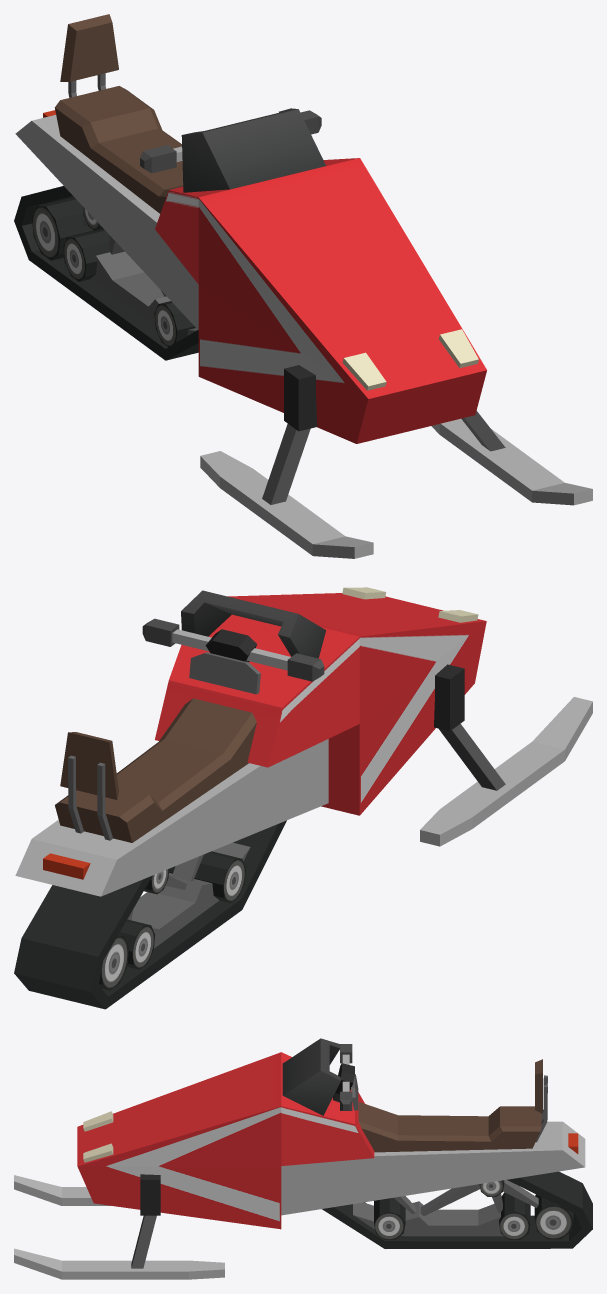
File: Snowmobile.fbx
The picture shows the model from 3 angles, top to bottom: view 1: azimuth 30°, elevation 25°; view 2: azimuth 150°, elevation 25°; view 3: azimuth 270°, elevation 25°; orthographic projection. The views are drawn at different scales.
Parts seen in each view (by area): view 1: Snowmobile, SkyR, SkyL; view 2: Snowmobile, SkyR; view 3: Snowmobile, SkyL, SkyR.
Boxes of the visible parts, x1,y1,x2,y2 form: Snowmobile: [14, 14, 486, 443]; SkyR: [200, 365, 373, 558]; SkyL: [431, 411, 592, 505]; Snowmobile: [14, 587, 486, 1009]; SkyR: [420, 664, 592, 846]; Snowmobile: [77, 1038, 592, 1248]; SkyL: [14, 1174, 224, 1279]; SkyR: [14, 1175, 110, 1205].
Bounding box in the file's own units: 134 × 135 × 388.
